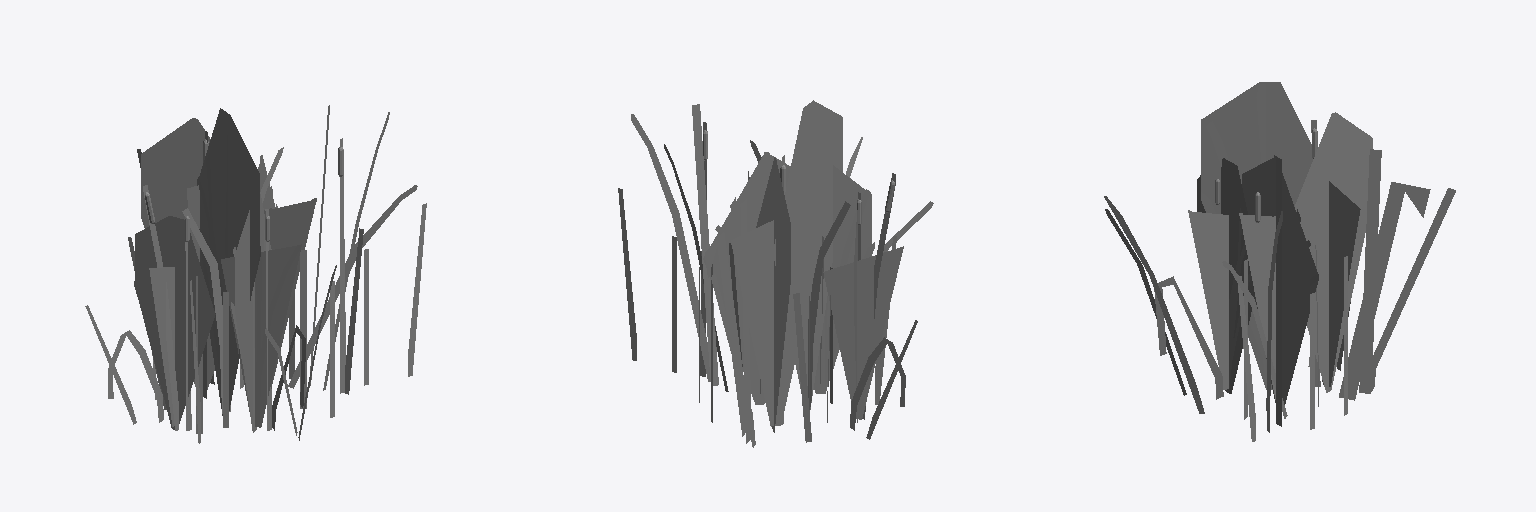
File: Foliage_Grass_Reeds.obj
3 renders of one model, left to right at view 1: azimuth 30°, elevation 25°; view 2: azimuth 150°, elevation 25°; view 3: azimuth 270°, elevation 25°, orthographic.
Parts seen in each view (by area): view 1: Foliage_Grass_Reeds_LOD1, Foliage_Grass_Reeds_LOD0; view 2: Foliage_Grass_Reeds_LOD1, Foliage_Grass_Reeds_LOD0; view 3: Foliage_Grass_Reeds_LOD1, Foliage_Grass_Reeds_LOD0.
Part boxes in pixels (bbox=[...]): Foliage_Grass_Reeds_LOD1: bbox=[91, 108, 336, 435]; Foliage_Grass_Reeds_LOD0: bbox=[85, 105, 426, 443]; Foliage_Grass_Reeds_LOD1: bbox=[703, 100, 930, 428]; Foliage_Grass_Reeds_LOD0: bbox=[618, 104, 933, 447]; Foliage_Grass_Reeds_LOD1: bbox=[1107, 82, 1372, 404]; Foliage_Grass_Reeds_LOD0: bbox=[1104, 84, 1455, 441].
Size of the model in its own units: 332 by 310 by 317.